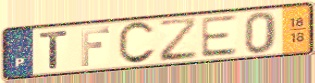0: (242, 11, 279, 56)
C: (116, 20, 158, 67)
E: (199, 13, 240, 60)
F: (79, 25, 112, 68)
T: (38, 29, 71, 71)
Z: (156, 16, 200, 64)
